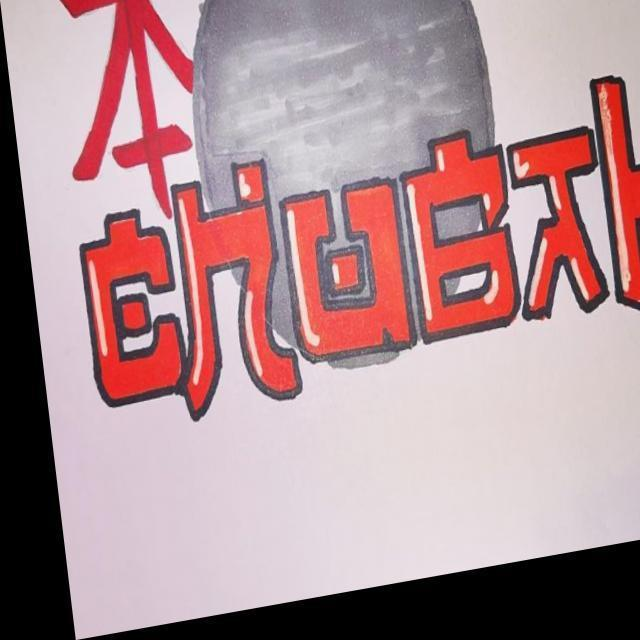-: (41, 0, 640, 490)
